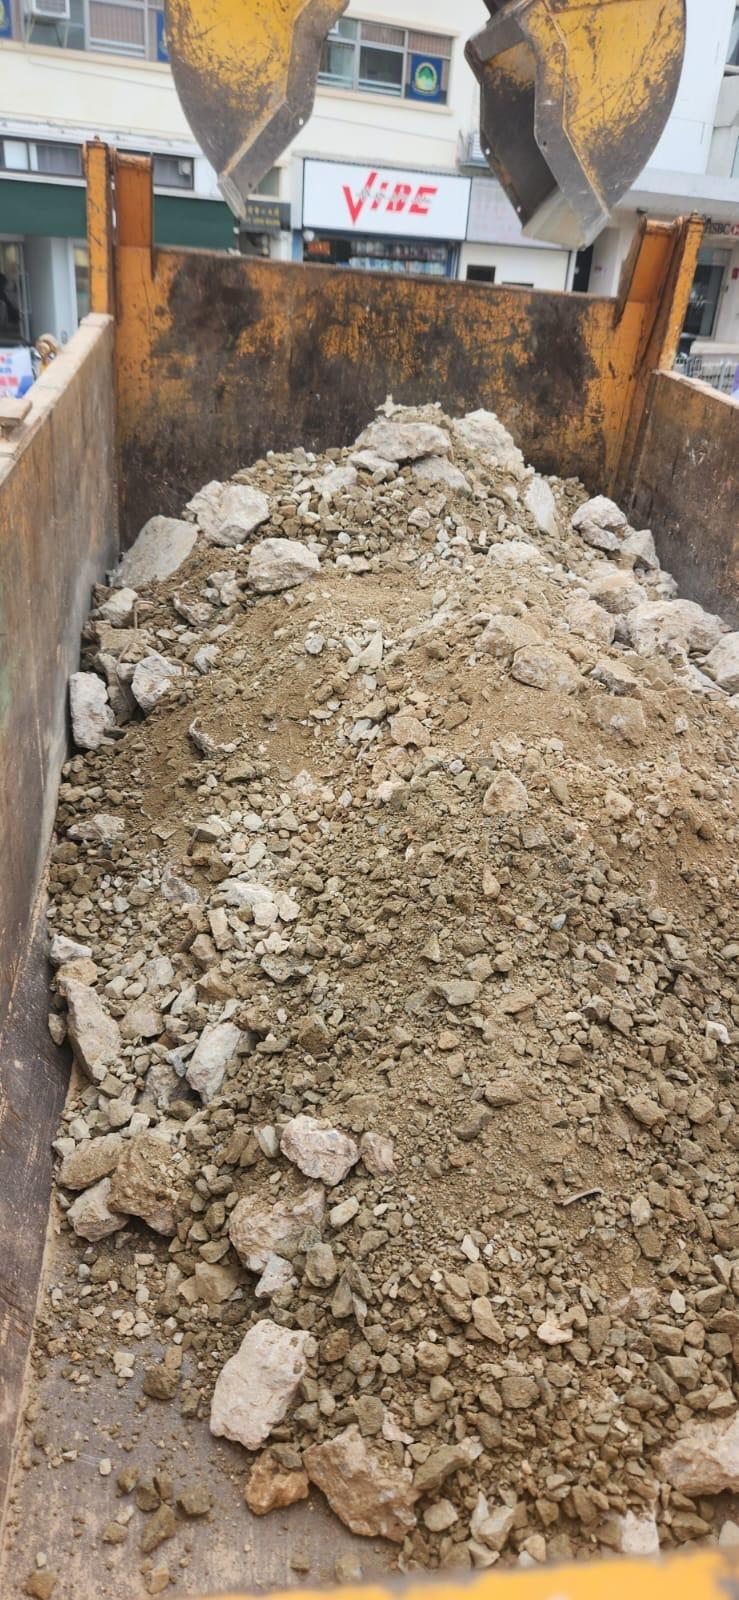dry: (52, 415, 739, 1545)
